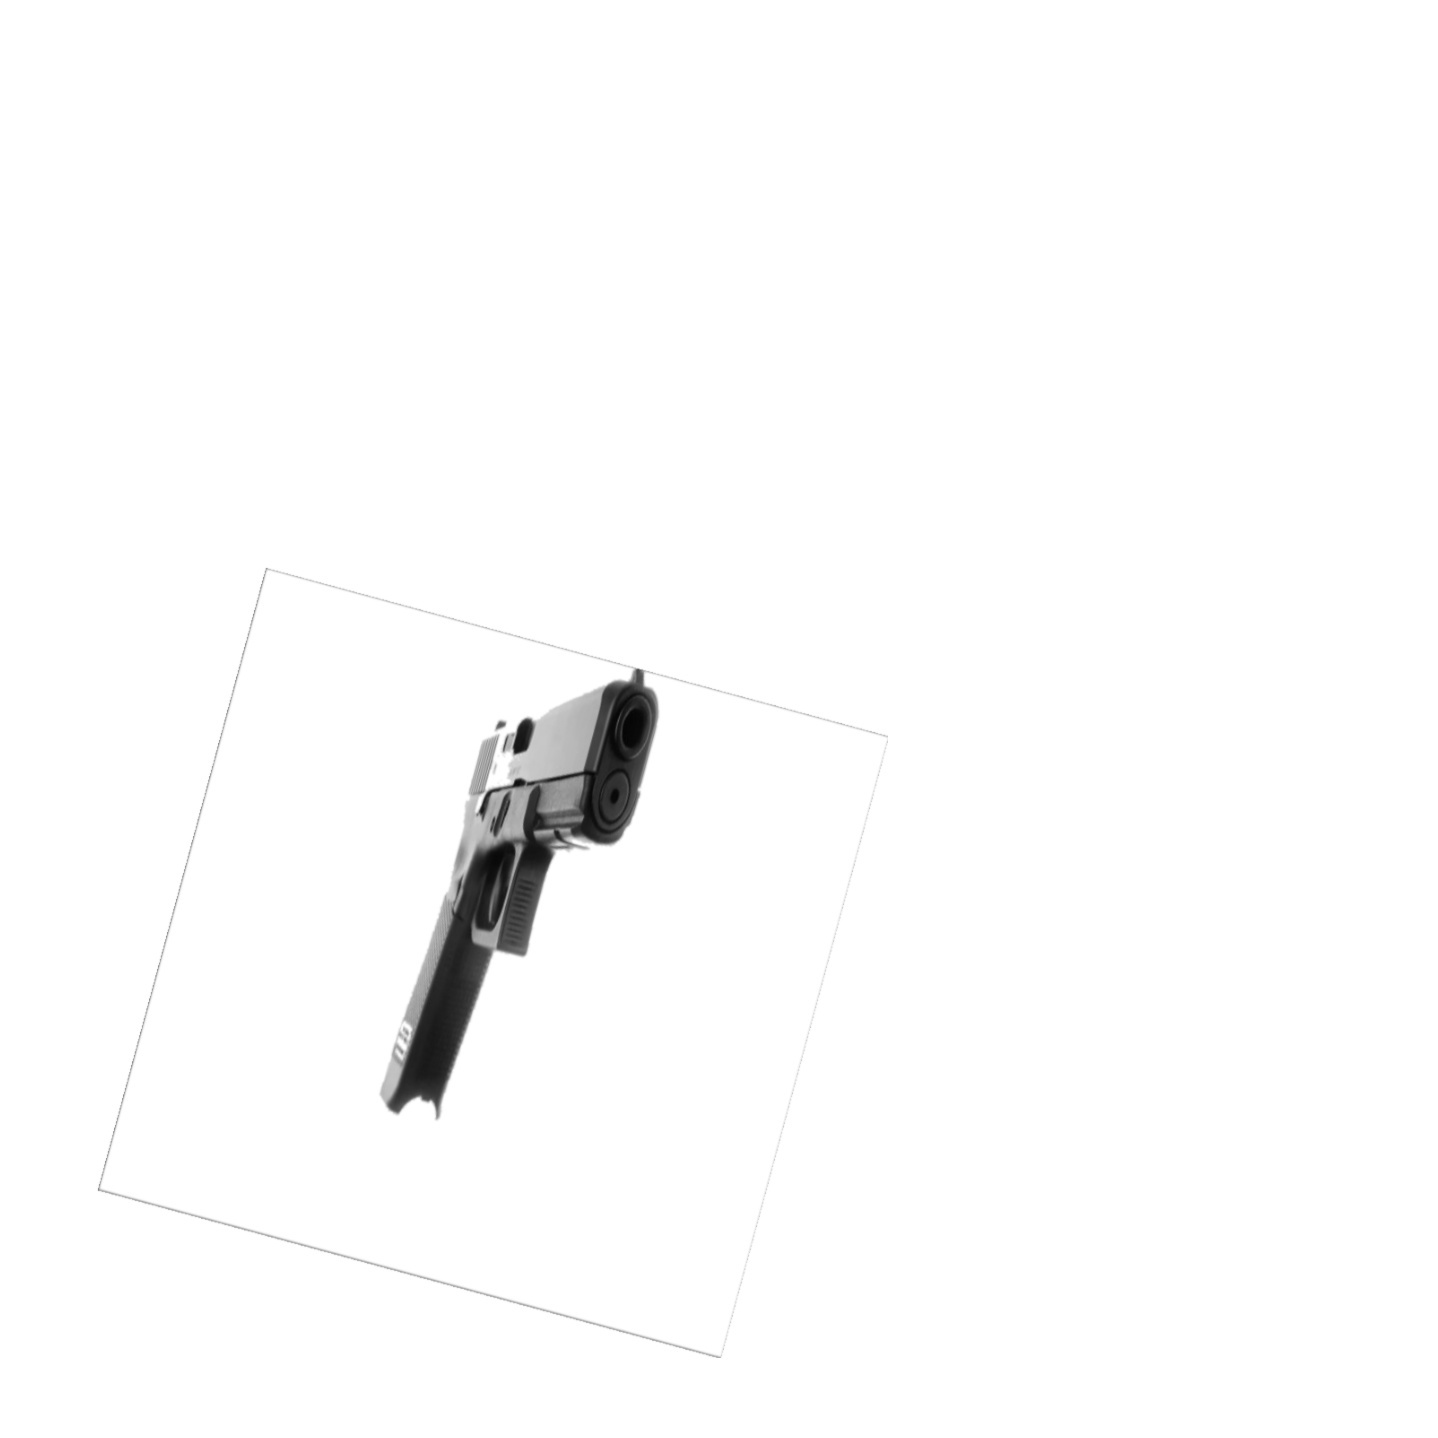gun: (381, 670, 658, 1122)
